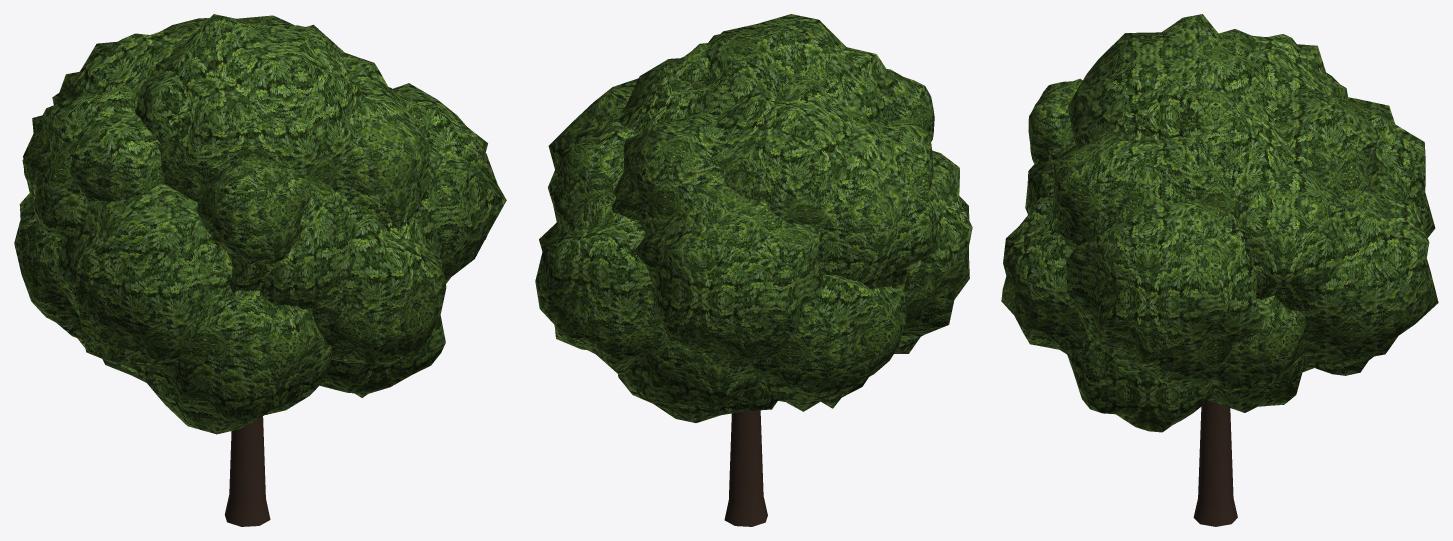
File: stadt_baum_kastanie.glb
The picture shows the model from 3 angles, left to right: view 1: azimuth 30°, elevation 25°; view 2: azimuth 150°, elevation 25°; view 3: azimuth 270°, elevation 25°; orthographic projection. The views are drawn at different scales.
Visible parts, largest first — view 1: Prop; view 2: Prop; view 3: Prop.
Part boxes in pixels (box(x1,y1,x2,y2)): Prop: box(14, 14, 506, 526); Prop: box(535, 14, 972, 526); Prop: box(1001, 14, 1438, 526).
Size of the model in its own units: 0.8481 by 1 by 0.8172.
2 materials, 1 textured.
